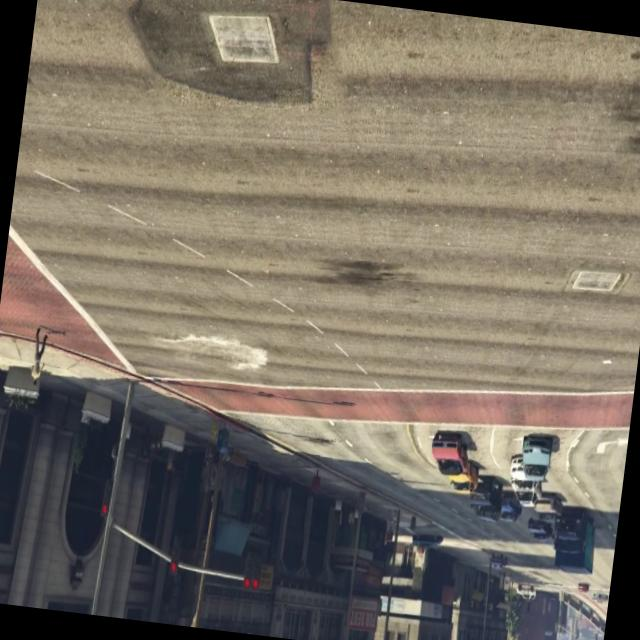Red-Signal: (229, 536, 274, 612), (91, 480, 124, 542), (161, 526, 191, 586)
